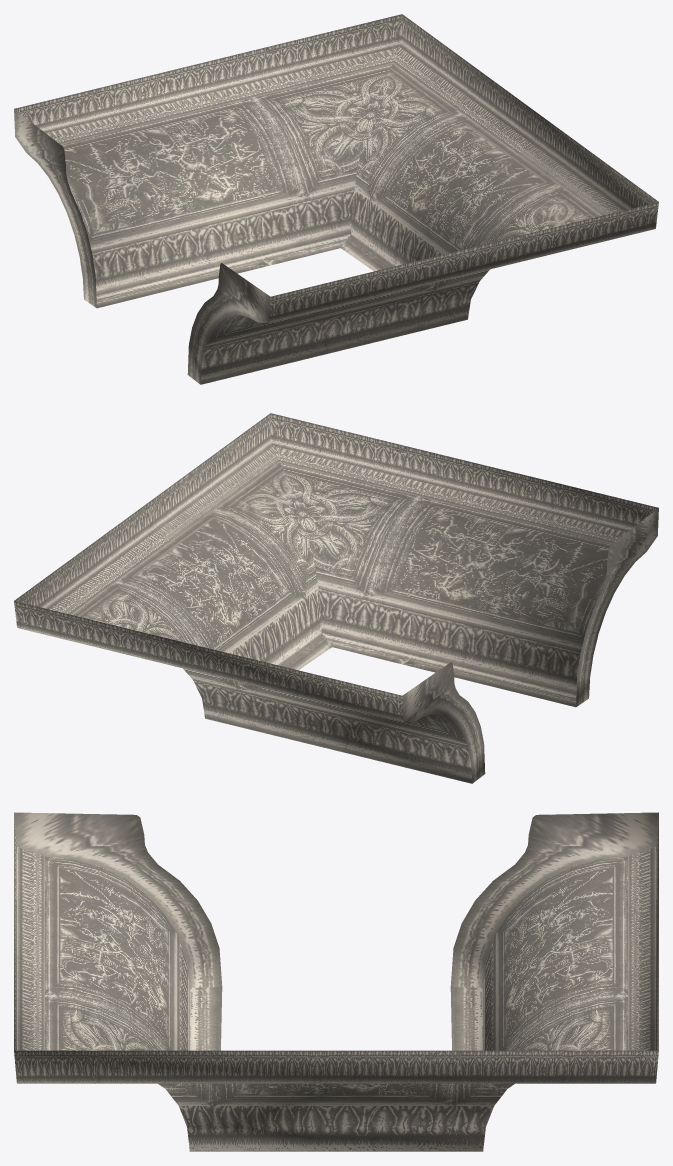
Rendered from Curved_Ceiling_ShortB.fbx.
The picture shows the model from 3 angles, top to bottom: view 1: azimuth 30°, elevation 25°; view 2: azimuth 150°, elevation 25°; view 3: azimuth 270°, elevation 25°; orthographic projection. The views are drawn at different scales.
Parts seen in each view (by area): view 1: CeilingRoundButt.001; view 2: CeilingRoundButt.001; view 3: CeilingRoundButt.001.
Boxes of the visible parts, left/top/right/bottom form: CeilingRoundButt.001: left=14, top=14, right=658, bottom=384; CeilingRoundButt.001: left=14, top=413, right=658, bottom=783; CeilingRoundButt.001: left=14, top=812, right=658, bottom=1151.
Bounding box in the file's own units: 390 × 134 × 446.
